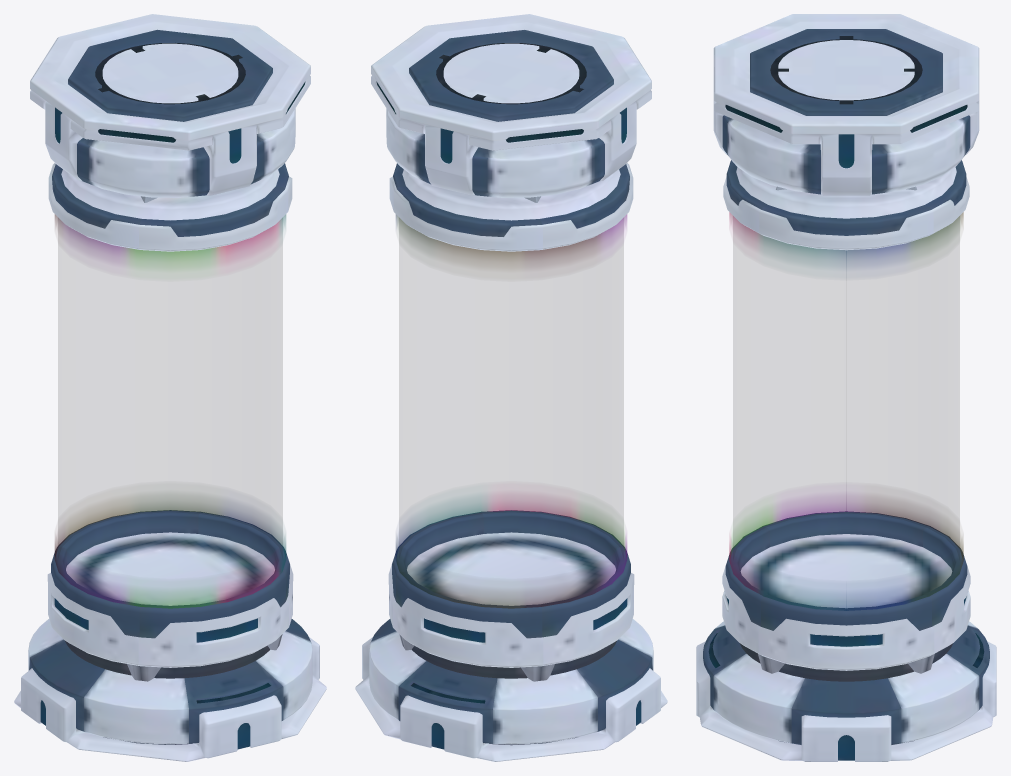
3 views of the same model, side by side, from view 1: azimuth 30°, elevation 25°; view 2: azimuth 150°, elevation 25°; view 3: azimuth 270°, elevation 25° (orthographic).
Bounding box in the file's own units: 17.17 × 39.8 × 17.17.
3 materials, 3 textured.
